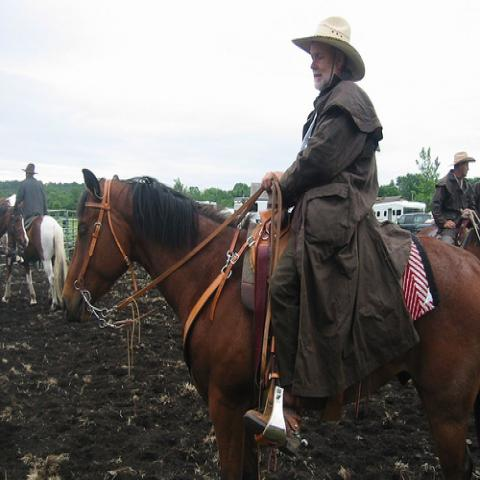truck: (396, 212, 434, 234)
